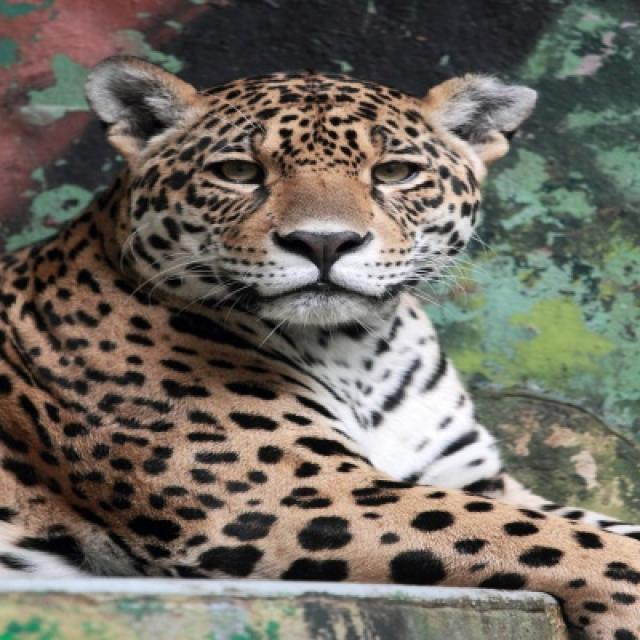Jaguar: (0, 58, 638, 638)
